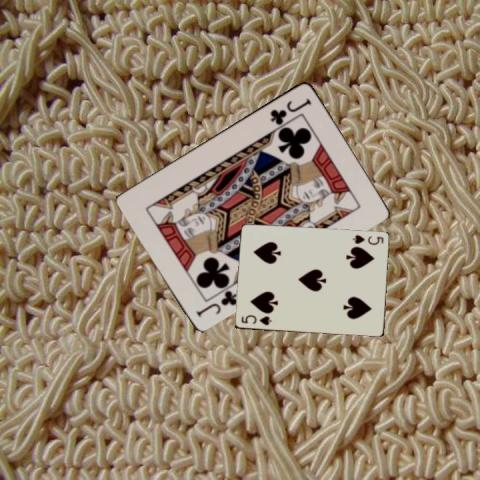5s: (349, 231, 385, 246), (239, 312, 273, 327)
Jc: (194, 287, 240, 318), (267, 95, 313, 125)
